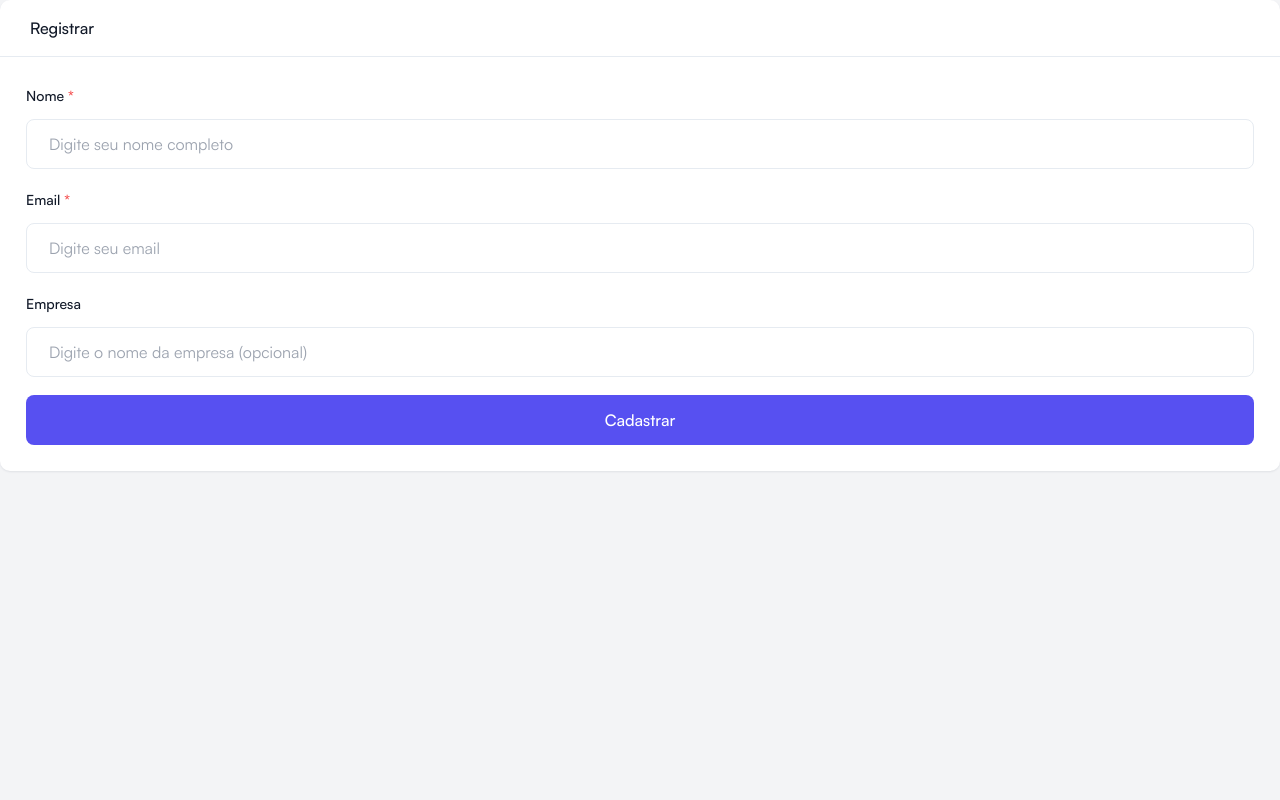
Scenario: RegisterPage › deve exibir erro quando token não é encontrado no submit
Type "João Silva" into the field labelled "Nome*" at (640, 144), box [26, 119, 1254, 169]
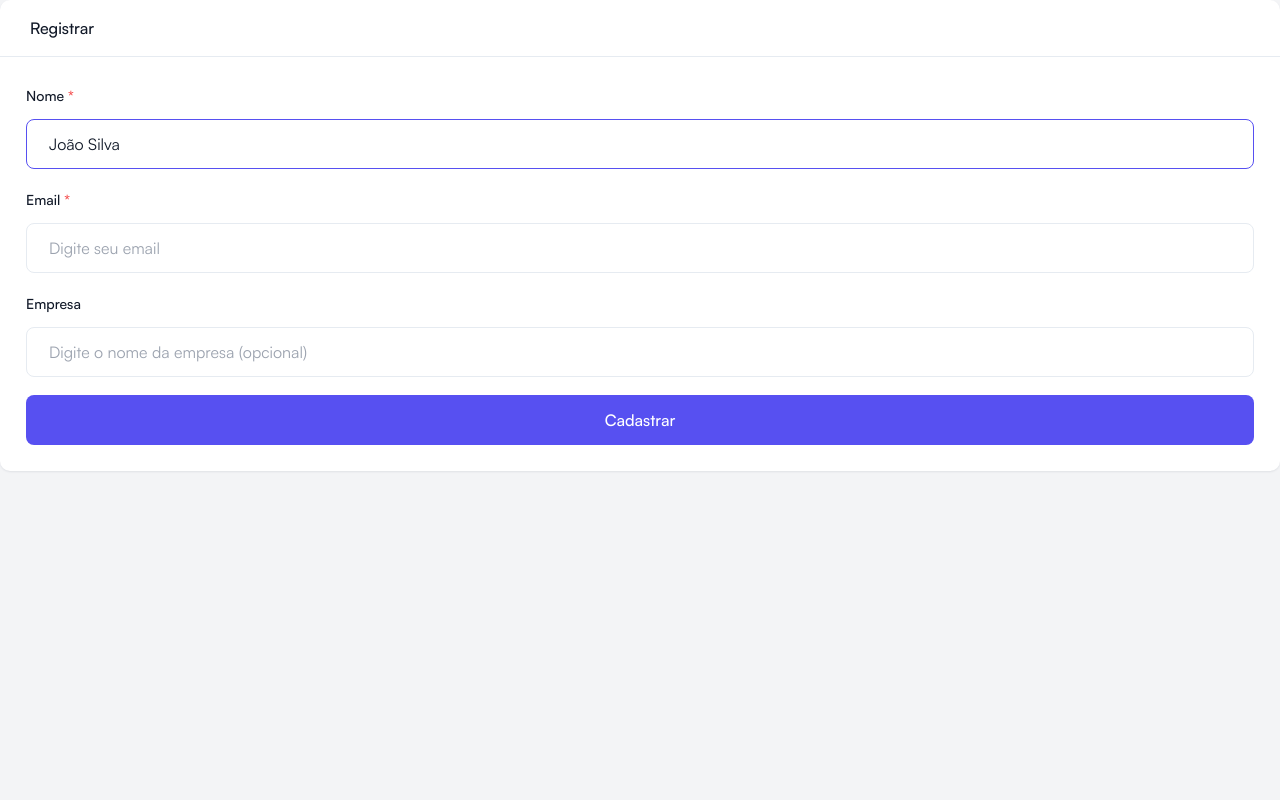
Type "joao@example.com" into the field labelled "Email*" at (640, 248), box [26, 223, 1254, 273]
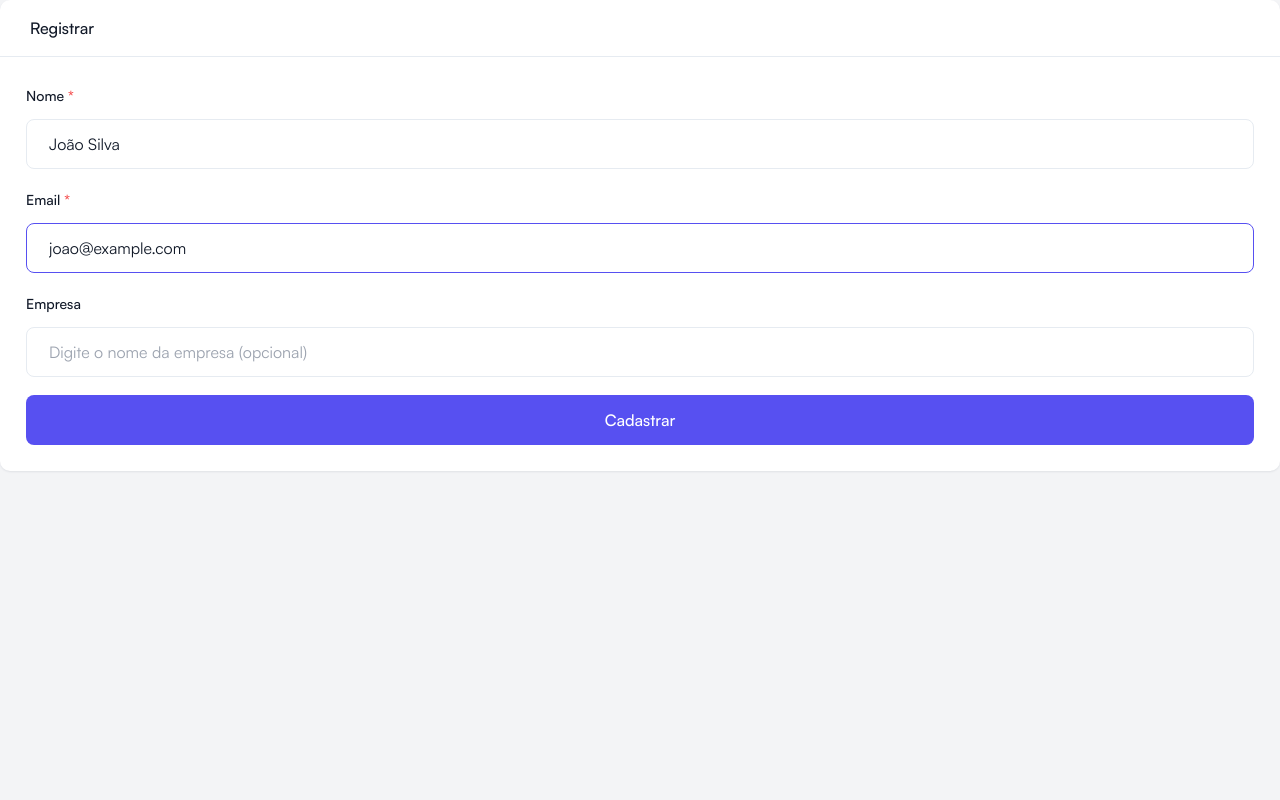
Click the button "Cadastrar" at (640, 420), box [26, 395, 1254, 445]
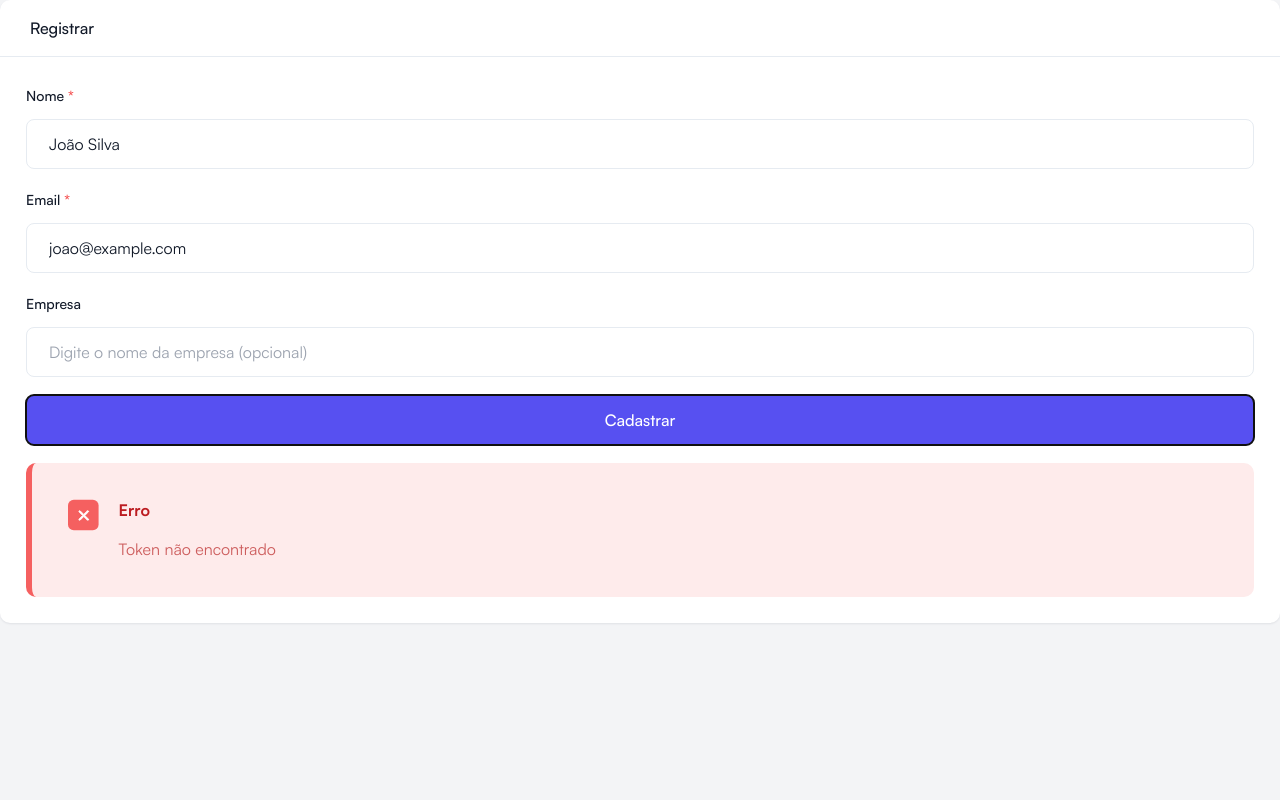
Check: the text "Token não encontrado" is shown, box [119, 539, 276, 559]
